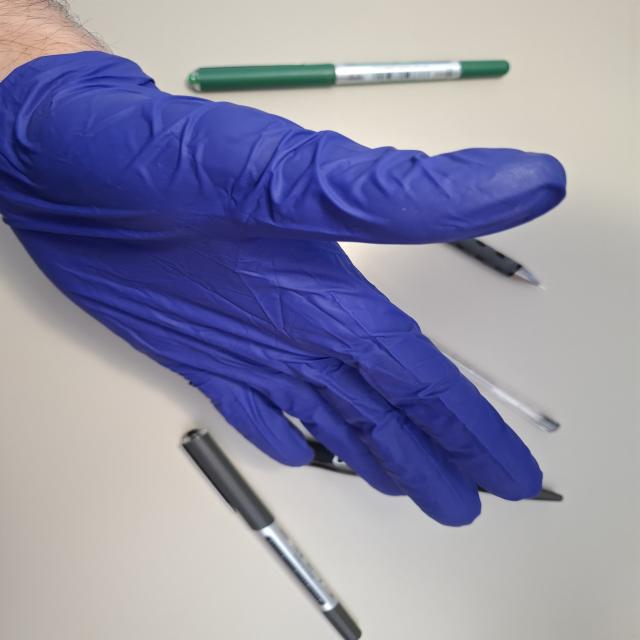glove_on: (0, 39, 569, 530)
